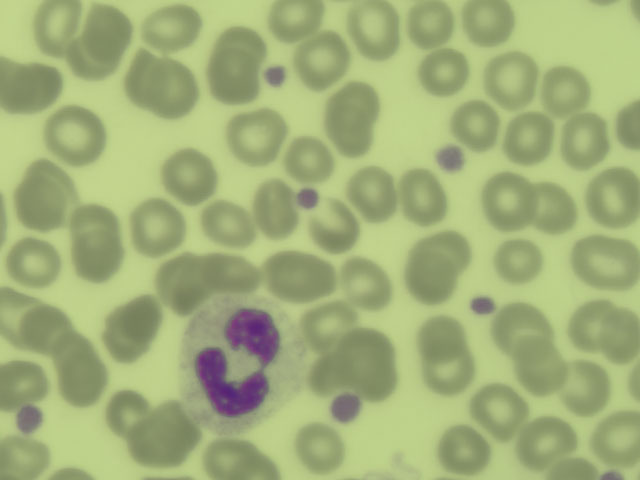Platelets: (331, 395, 361, 420), (440, 146, 464, 170), (19, 410, 41, 432), (266, 67, 288, 88), (473, 295, 494, 316), (298, 189, 319, 208), (603, 470, 623, 480)
RBC: (566, 240, 640, 289), (46, 107, 108, 163), (224, 110, 289, 162), (297, 34, 354, 89), (267, 253, 329, 302), (349, 2, 400, 61), (588, 172, 640, 228), (207, 51, 259, 105), (132, 203, 188, 251), (151, 405, 203, 455), (461, 2, 519, 46), (63, 29, 113, 80), (165, 150, 216, 200), (438, 427, 492, 474), (557, 364, 608, 413), (491, 52, 538, 105), (496, 305, 551, 350), (200, 253, 259, 294), (157, 59, 198, 117), (489, 176, 533, 230), (77, 234, 127, 281), (593, 410, 640, 460), (7, 237, 62, 279), (518, 338, 560, 393), (475, 383, 524, 430), (324, 107, 370, 156), (95, 324, 149, 365), (33, 166, 80, 213), (284, 139, 331, 186), (509, 116, 556, 163), (351, 359, 399, 405), (15, 182, 59, 232), (419, 50, 469, 94), (159, 257, 205, 304), (351, 173, 398, 219), (562, 115, 606, 164), (122, 57, 165, 107), (494, 241, 546, 282), (410, 262, 463, 302), (426, 345, 472, 391), (83, 8, 130, 53), (340, 262, 387, 307), (312, 200, 356, 248), (535, 185, 578, 234), (257, 180, 296, 234), (22, 308, 73, 349), (405, 172, 445, 224), (542, 68, 589, 112), (215, 26, 265, 67), (151, 8, 202, 48), (133, 417, 173, 468), (203, 202, 250, 245), (306, 309, 362, 345), (524, 419, 578, 456), (302, 424, 346, 469), (422, 234, 474, 272), (106, 393, 150, 437), (457, 105, 500, 150), (33, 2, 77, 45), (22, 64, 62, 110), (74, 204, 116, 247), (273, 2, 323, 38), (411, 2, 450, 47), (209, 438, 254, 477), (308, 357, 355, 394), (605, 313, 640, 361), (68, 360, 106, 404), (116, 298, 164, 332), (420, 316, 460, 356), (2, 364, 43, 403), (341, 83, 382, 121), (5, 438, 45, 476), (59, 334, 97, 373), (4, 296, 37, 340), (574, 304, 611, 342), (347, 332, 393, 362), (1, 55, 25, 107), (615, 99, 640, 148), (235, 456, 280, 480), (554, 455, 597, 480)
WBC: (193, 302, 293, 423)
